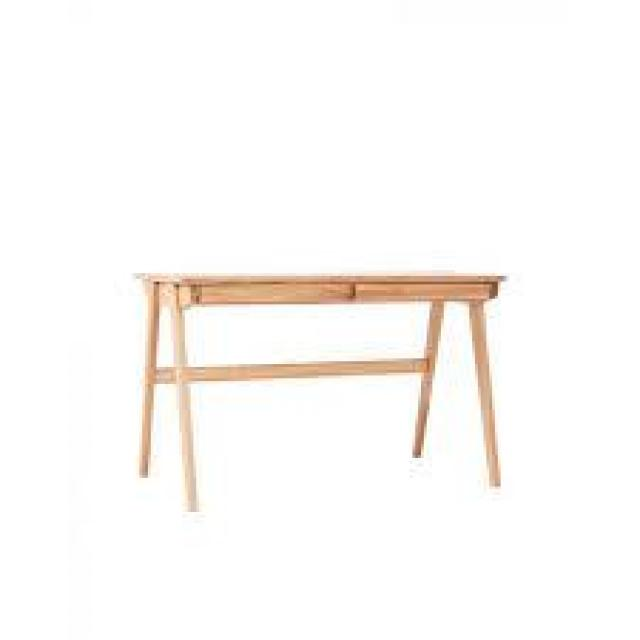table: (74, 219, 546, 543)
